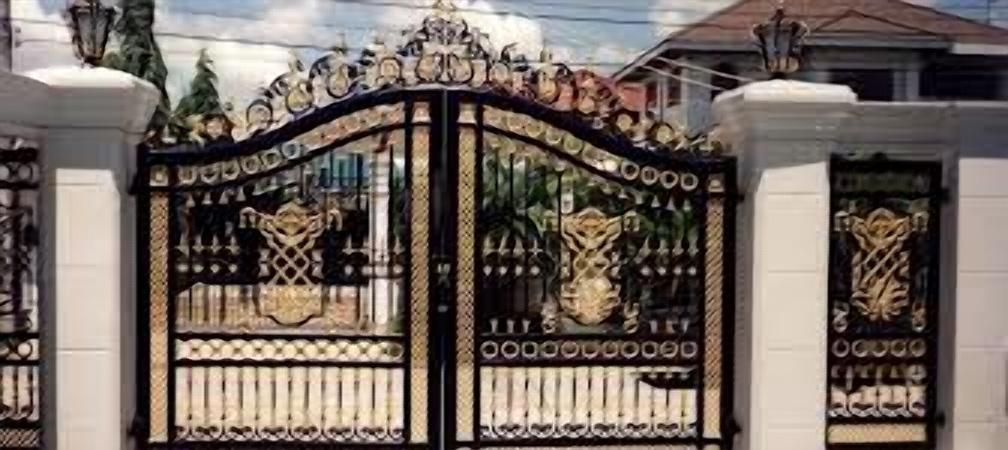Gate: (128, 0, 746, 450), (828, 152, 945, 450), (0, 146, 50, 450)
